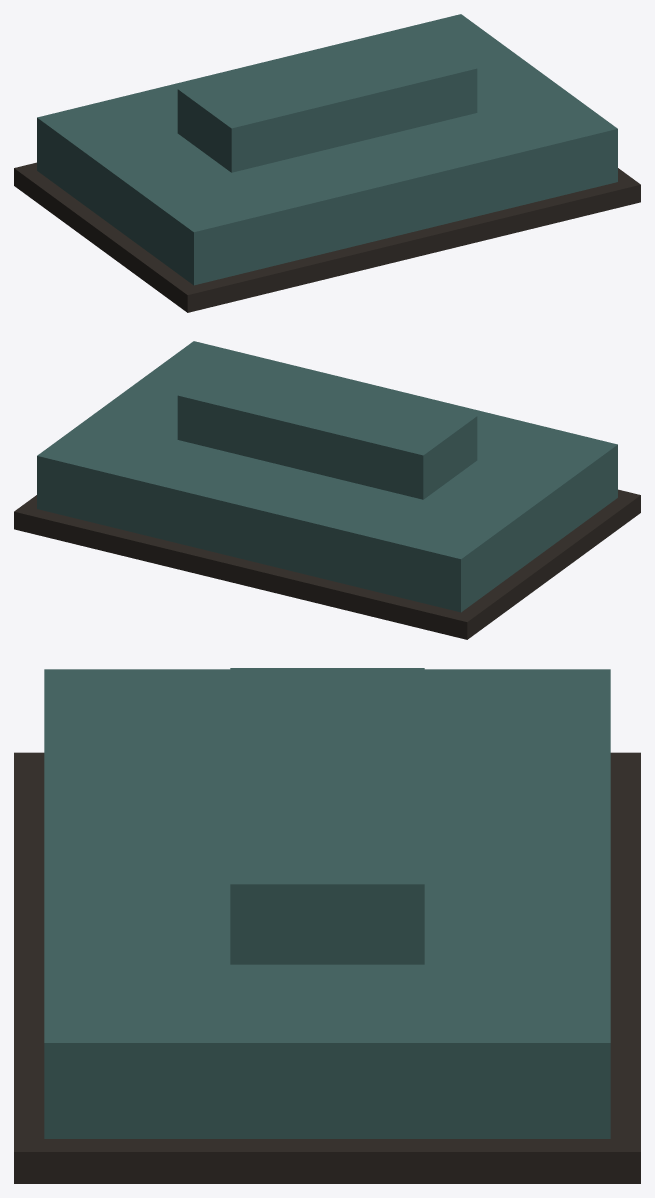
The model's file is Stamp.fbx.
3 views of the same model, one above another, from view 1: azimuth 30°, elevation 25°; view 2: azimuth 150°, elevation 25°; view 3: azimuth 270°, elevation 25° (orthographic). The views are drawn at different scales.
Parts seen in each view (by area): view 1: Group_25_1; view 2: Group_25_1; view 3: Group_25_1.
Boxes of the visible parts, <box> form: Group_25_1: <box>14,14,640,312</box>; Group_25_1: <box>14,341,640,639</box>; Group_25_1: <box>14,668,640,1183</box>.
Bounding box in the file's own units: 0.9684 × 0.2353 × 0.6426.
